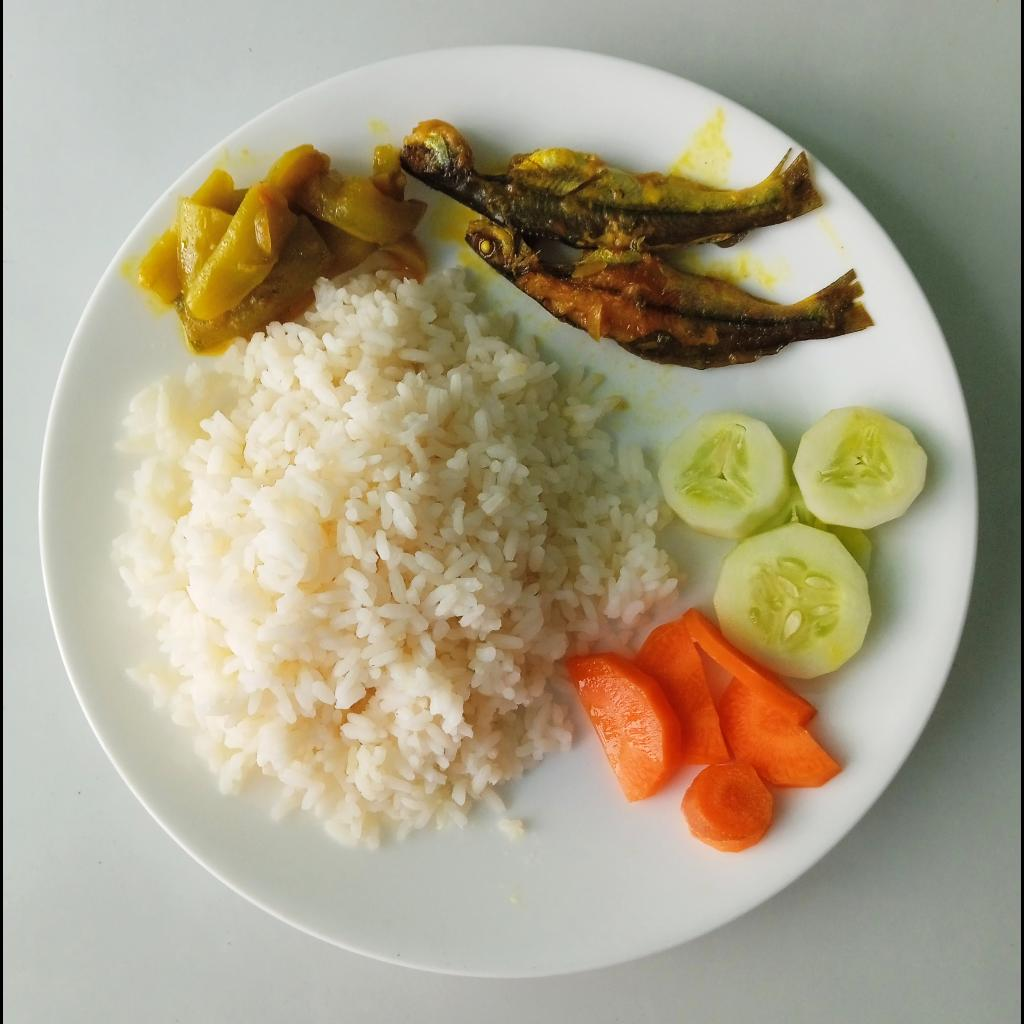carrot: (565, 605, 842, 855)
cucumber: (659, 404, 928, 680)
fish: (462, 217, 880, 368), (407, 116, 822, 252)
potol: (137, 139, 435, 344)
rice: (106, 267, 691, 860)
